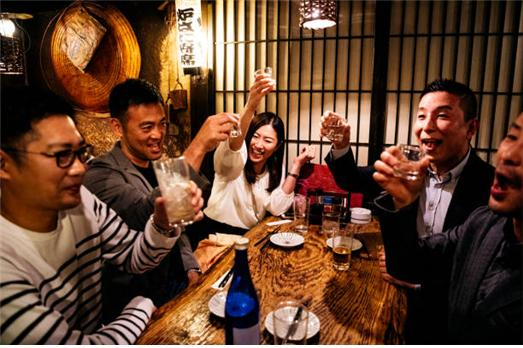alcohol: (219, 237, 260, 346), (152, 157, 195, 230), (393, 141, 423, 182), (331, 226, 351, 272), (325, 114, 348, 146), (252, 66, 276, 91), (227, 114, 241, 139)
